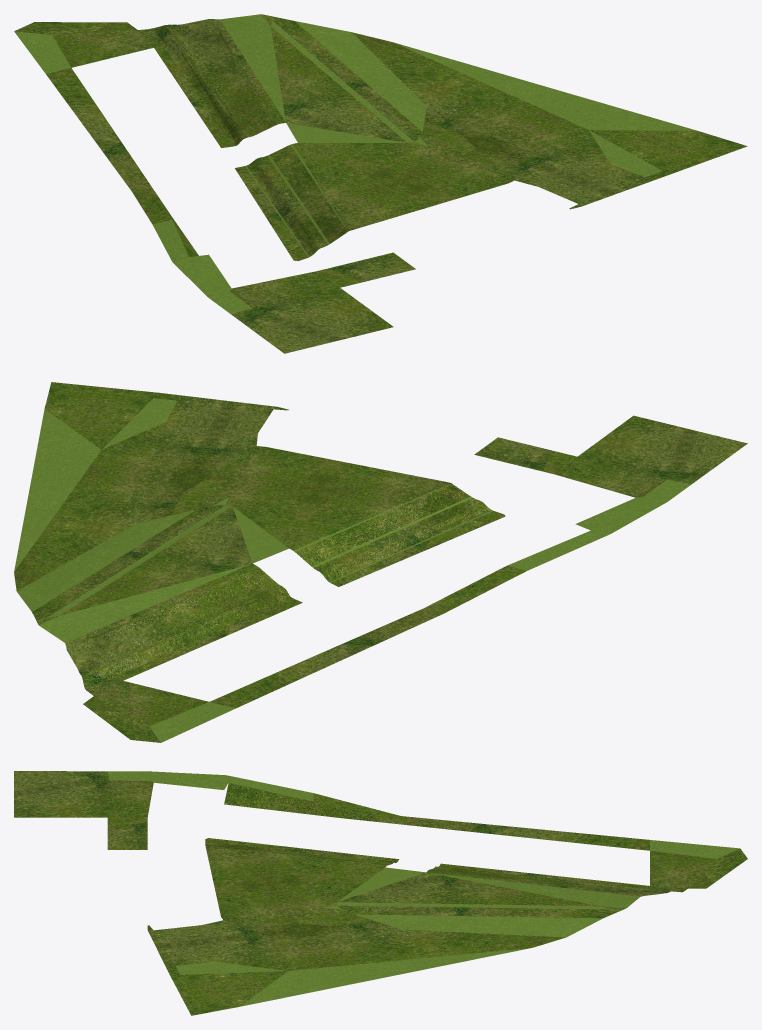
Rendered from terreno.glb.
The picture shows the model from 3 angles, top to bottom: view 1: azimuth 30°, elevation 25°; view 2: azimuth 150°, elevation 25°; view 3: azimuth 270°, elevation 25°; orthographic projection. The views are drawn at different scales.
Visible parts, largest first — view 1: Plano.003; view 2: Plano.003; view 3: Plano.003.
Boxes of the visible parts, left/top/right/bottom form: Plano.003: left=14, top=14, right=747, bottom=353; Plano.003: left=14, top=382, right=747, bottom=742; Plano.003: left=14, top=771, right=747, bottom=1015.
Bounding box in the file's own units: 646 × 22.46 × 832.
3 materials, 3 textured.
